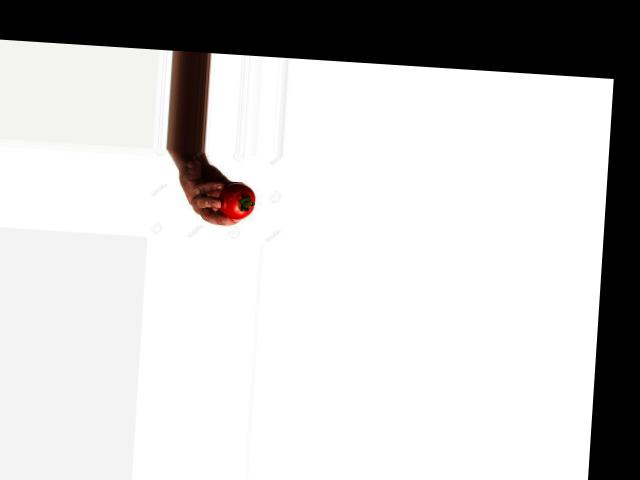tomato: (218, 181, 256, 220)
